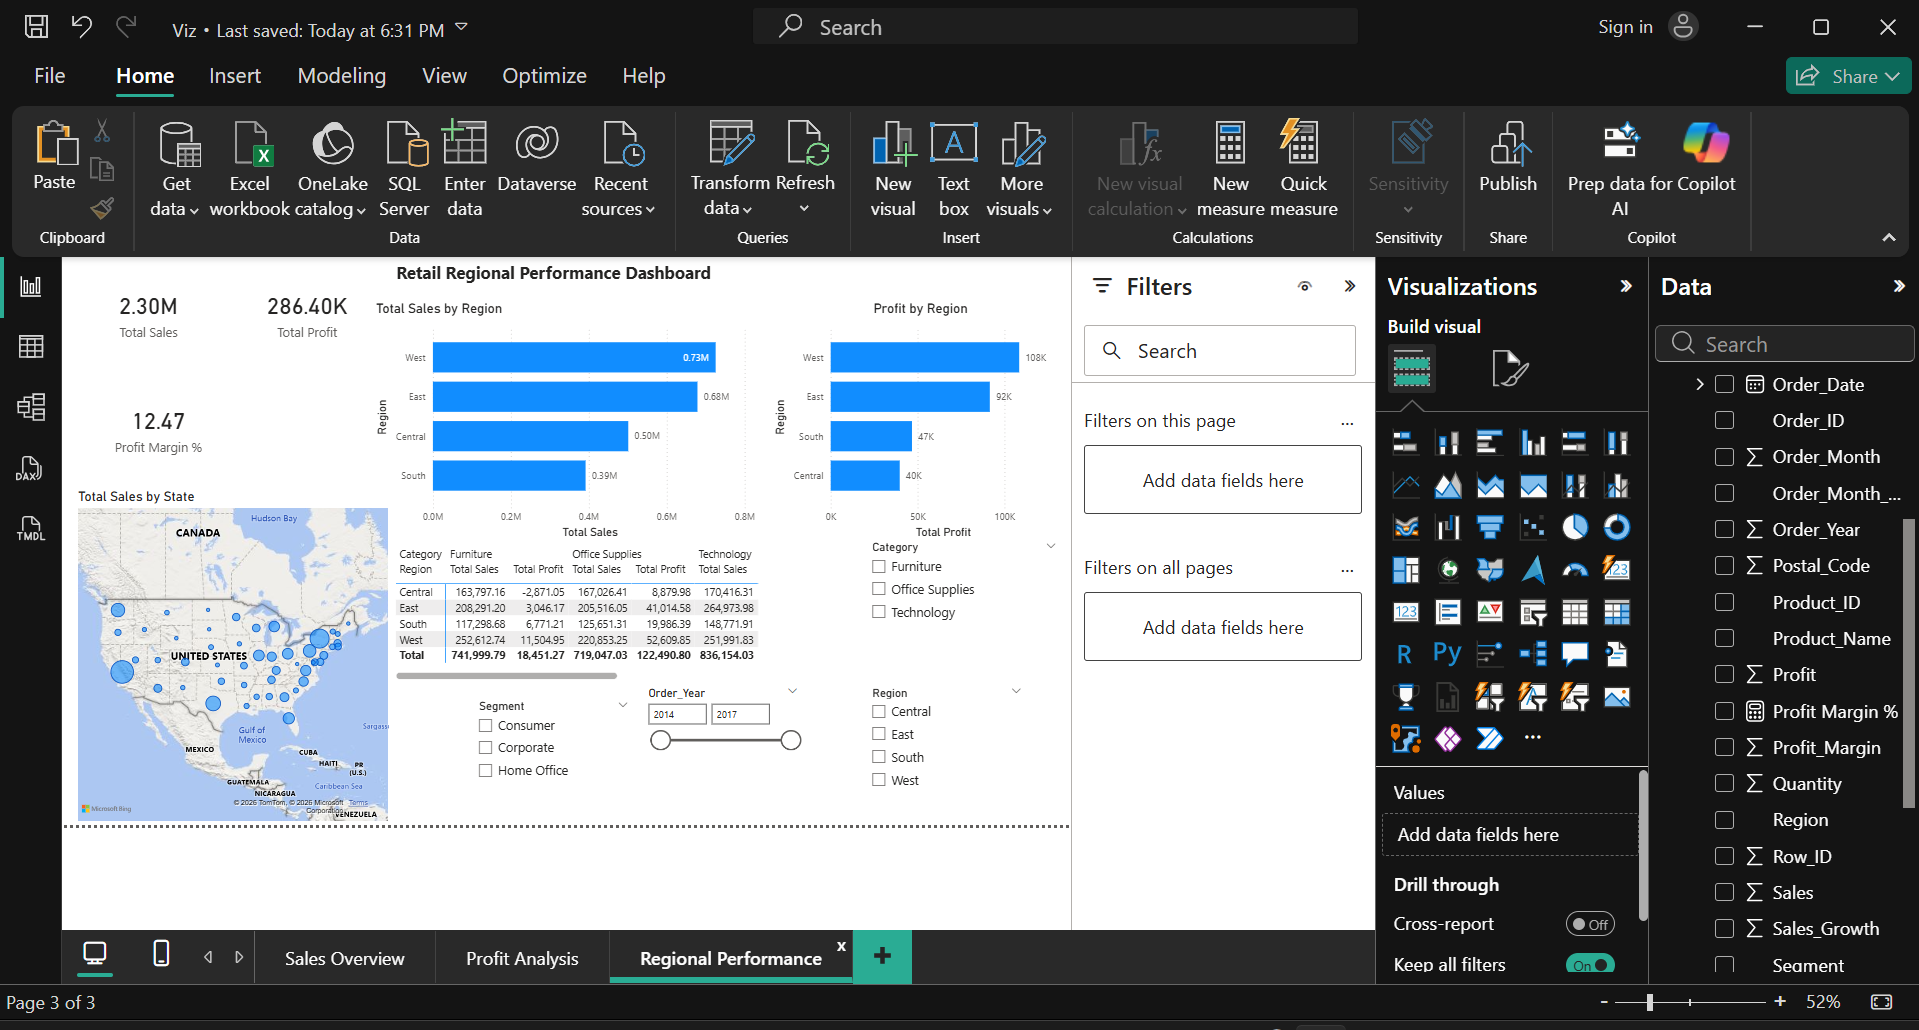

What the dashboard file says about the page in this screenshot:
{"tool":"powerbi","page":{"name":"Regional Performance","canvas":[1280,720],"ordinal":2},"visuals":[{"type":"textbox","box":[375.9,0,494.8,55.6],"z":0},{"type":"card","fields":{"Values":["superstore_clean.Profit Margin %"]},"box":[24.9,140,193.7,153.4],"z":1},{"type":"card","fields":{"Values":["superstore_clean.Total Profit"]},"box":[218.6,0,184.1,140],"z":2},{"type":"card","fields":{"Values":["superstore_clean.Total Sales"]},"box":[0,0,218.6,140],"z":3},{"type":"clusteredBarChart","fields":{"Category":["superstore_clean.Region"],"Y":["superstore_clean.Total Sales"]},"box":[393.1,55.6,494.8,304.9],"z":4},{"type":"clusteredBarChart","title":"Profit by Region","fields":{"Category":["superstore_clean.Region"],"Y":["superstore_clean.Total Profit"]},"box":[898,56,382,305],"z":5},{"type":"map","fields":{"Category":["superstore_clean.State"],"Size":["superstore_clean.Total Sales"]},"box":[15.3,293.4,402.7,425.7],"z":6},{"type":"pivotTable","fields":{"Rows":["superstore_clean.Region"],"Columns":["superstore_clean.Category"],"Values":["superstore_clean.Total Sales","superstore_clean.Total Profit"]},"box":[418.1,360.5,469.9,180.3],"z":7},{"type":"slicer","fields":{"Values":["superstore_clean.Order_Year"]},"box":[730.7,538.9,214.8,180.3],"z":8},{"type":"slicer","fields":{"Values":["superstore_clean.Region"]},"box":[1014.5,538.9,214.8,180.3],"z":9},{"type":"slicer","fields":{"Values":["superstore_clean.Category"]},"box":[1014.5,354.8,258.9,151.5],"z":10},{"type":"slicer","fields":{"Values":["superstore_clean.Segment"]},"box":[515.9,556.2,214.8,163],"z":11}]}

Visuals, with their boxes on the page's 1280x720 design canvas (x1, y1, x2, y2). These are canvas units, not pixel positions in the 1919x1030 screenshot, which may show the page scaled, cropped or inside an application window:
textbox: <bbox>376, 0, 871, 56</bbox>
card - superstore_clean.Profit Margin %: <bbox>25, 140, 219, 293</bbox>
card - superstore_clean.Total Profit: <bbox>219, 0, 403, 140</bbox>
card - superstore_clean.Total Sales: <bbox>0, 0, 219, 140</bbox>
clusteredBarChart - superstore_clean.Region x superstore_clean.Total Sales: <bbox>393, 56, 888, 360</bbox>
"Profit by Region" clusteredBarChart: <bbox>898, 56, 1280, 361</bbox>
map - superstore_clean.State x superstore_clean.Total Sales: <bbox>15, 293, 418, 719</bbox>
pivotTable - superstore_clean.Region x superstore_clean.Category: <bbox>418, 360, 888, 541</bbox>
slicer - superstore_clean.Order_Year: <bbox>731, 539, 946, 719</bbox>
slicer - superstore_clean.Region: <bbox>1014, 539, 1229, 719</bbox>
slicer - superstore_clean.Category: <bbox>1014, 355, 1273, 506</bbox>
slicer - superstore_clean.Segment: <bbox>516, 556, 731, 719</bbox>
